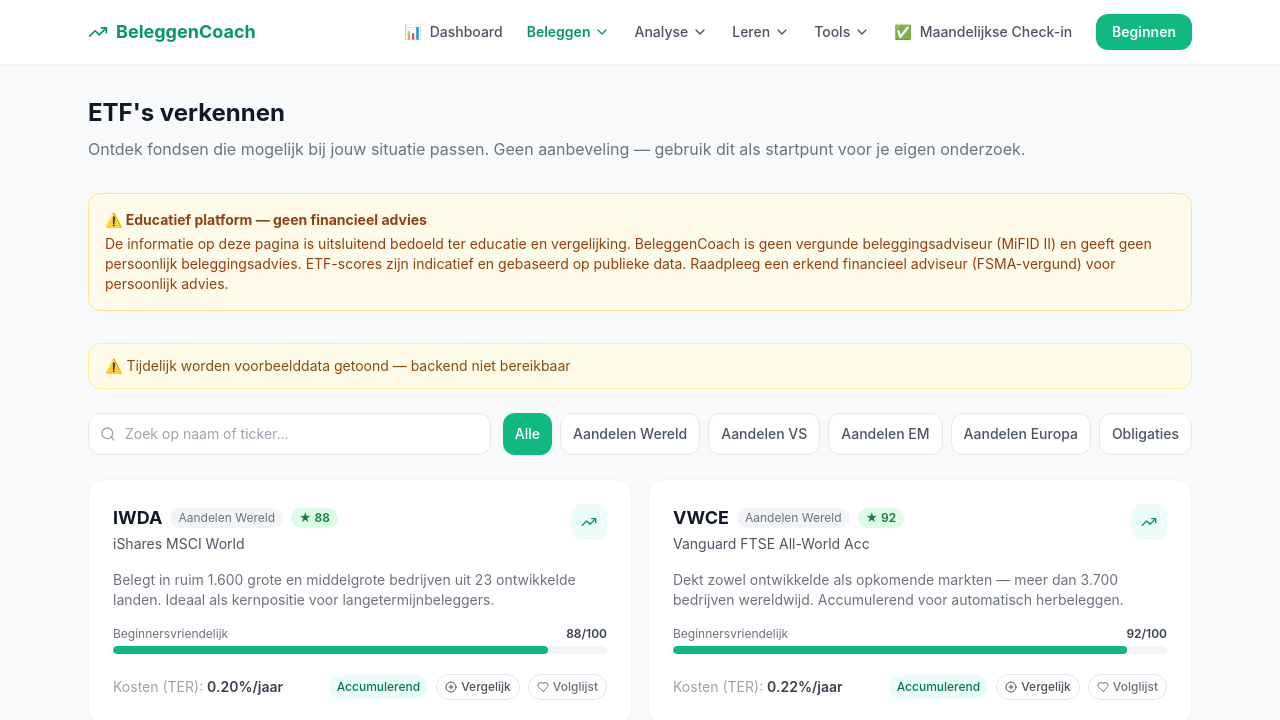
Test: ETF Explorer (/etfs) › Categoriefilter › keert terug naar alle ETF's bij klikken op 'Alle'
Note: First go to filtered state
Click the button "Aandelen VS" at [764, 434], box [708,413,820,455]
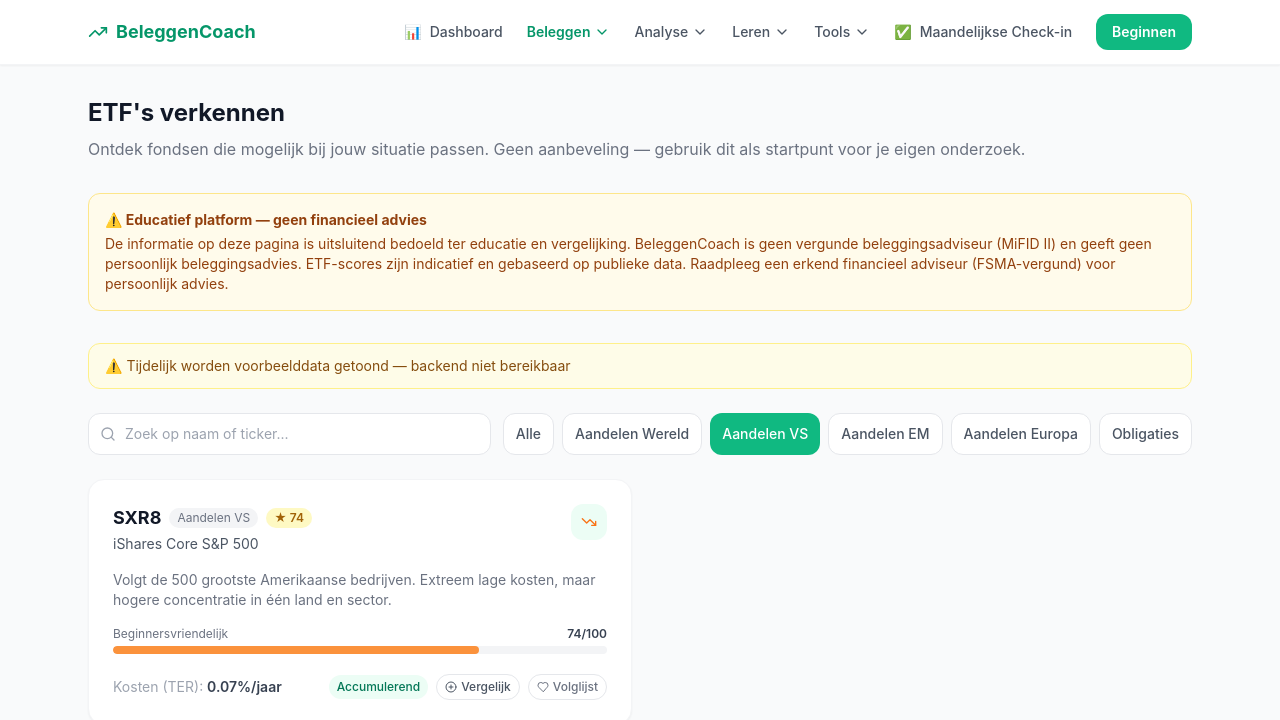
Note: Then click Alle
Click the button "Alle" at [529, 434], box [503,413,554,455]
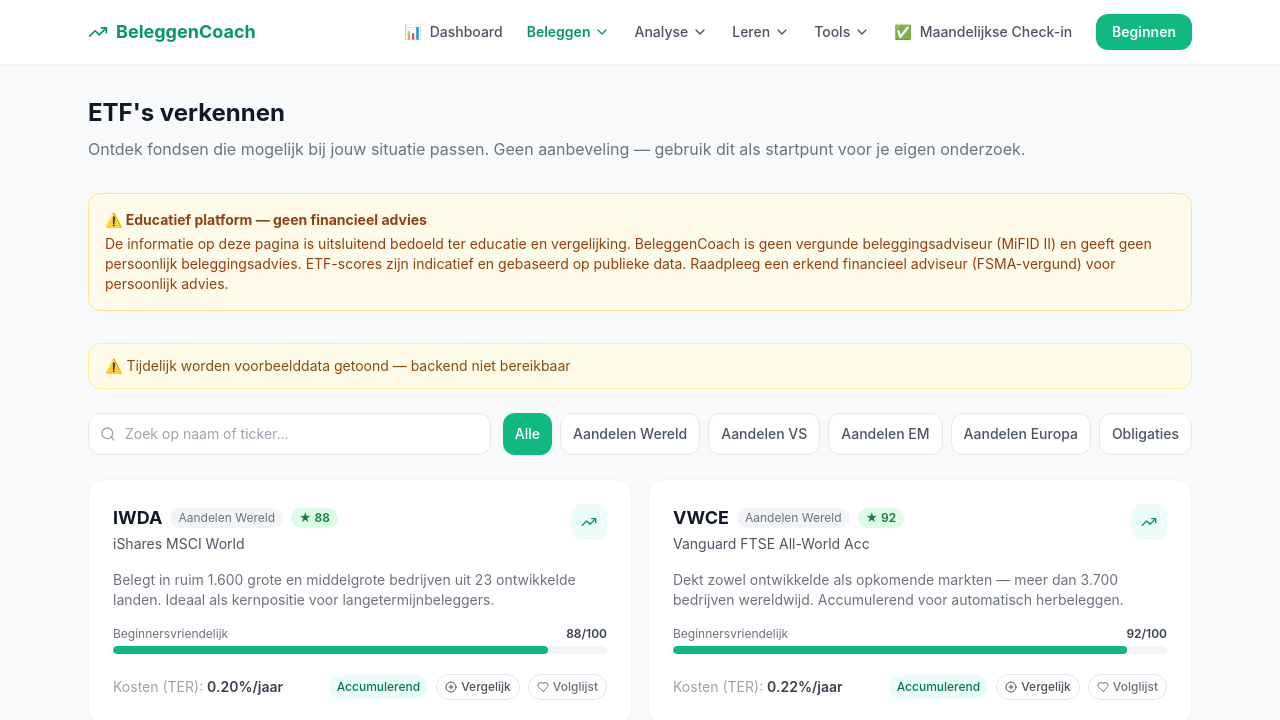
Expected: the number of elements with test id "etf-card" is at least 3
